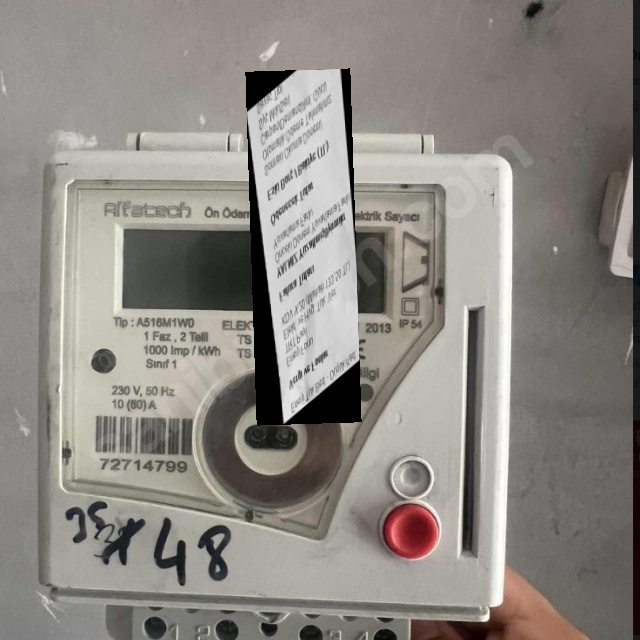electricity-bill: (245, 67, 362, 425)
